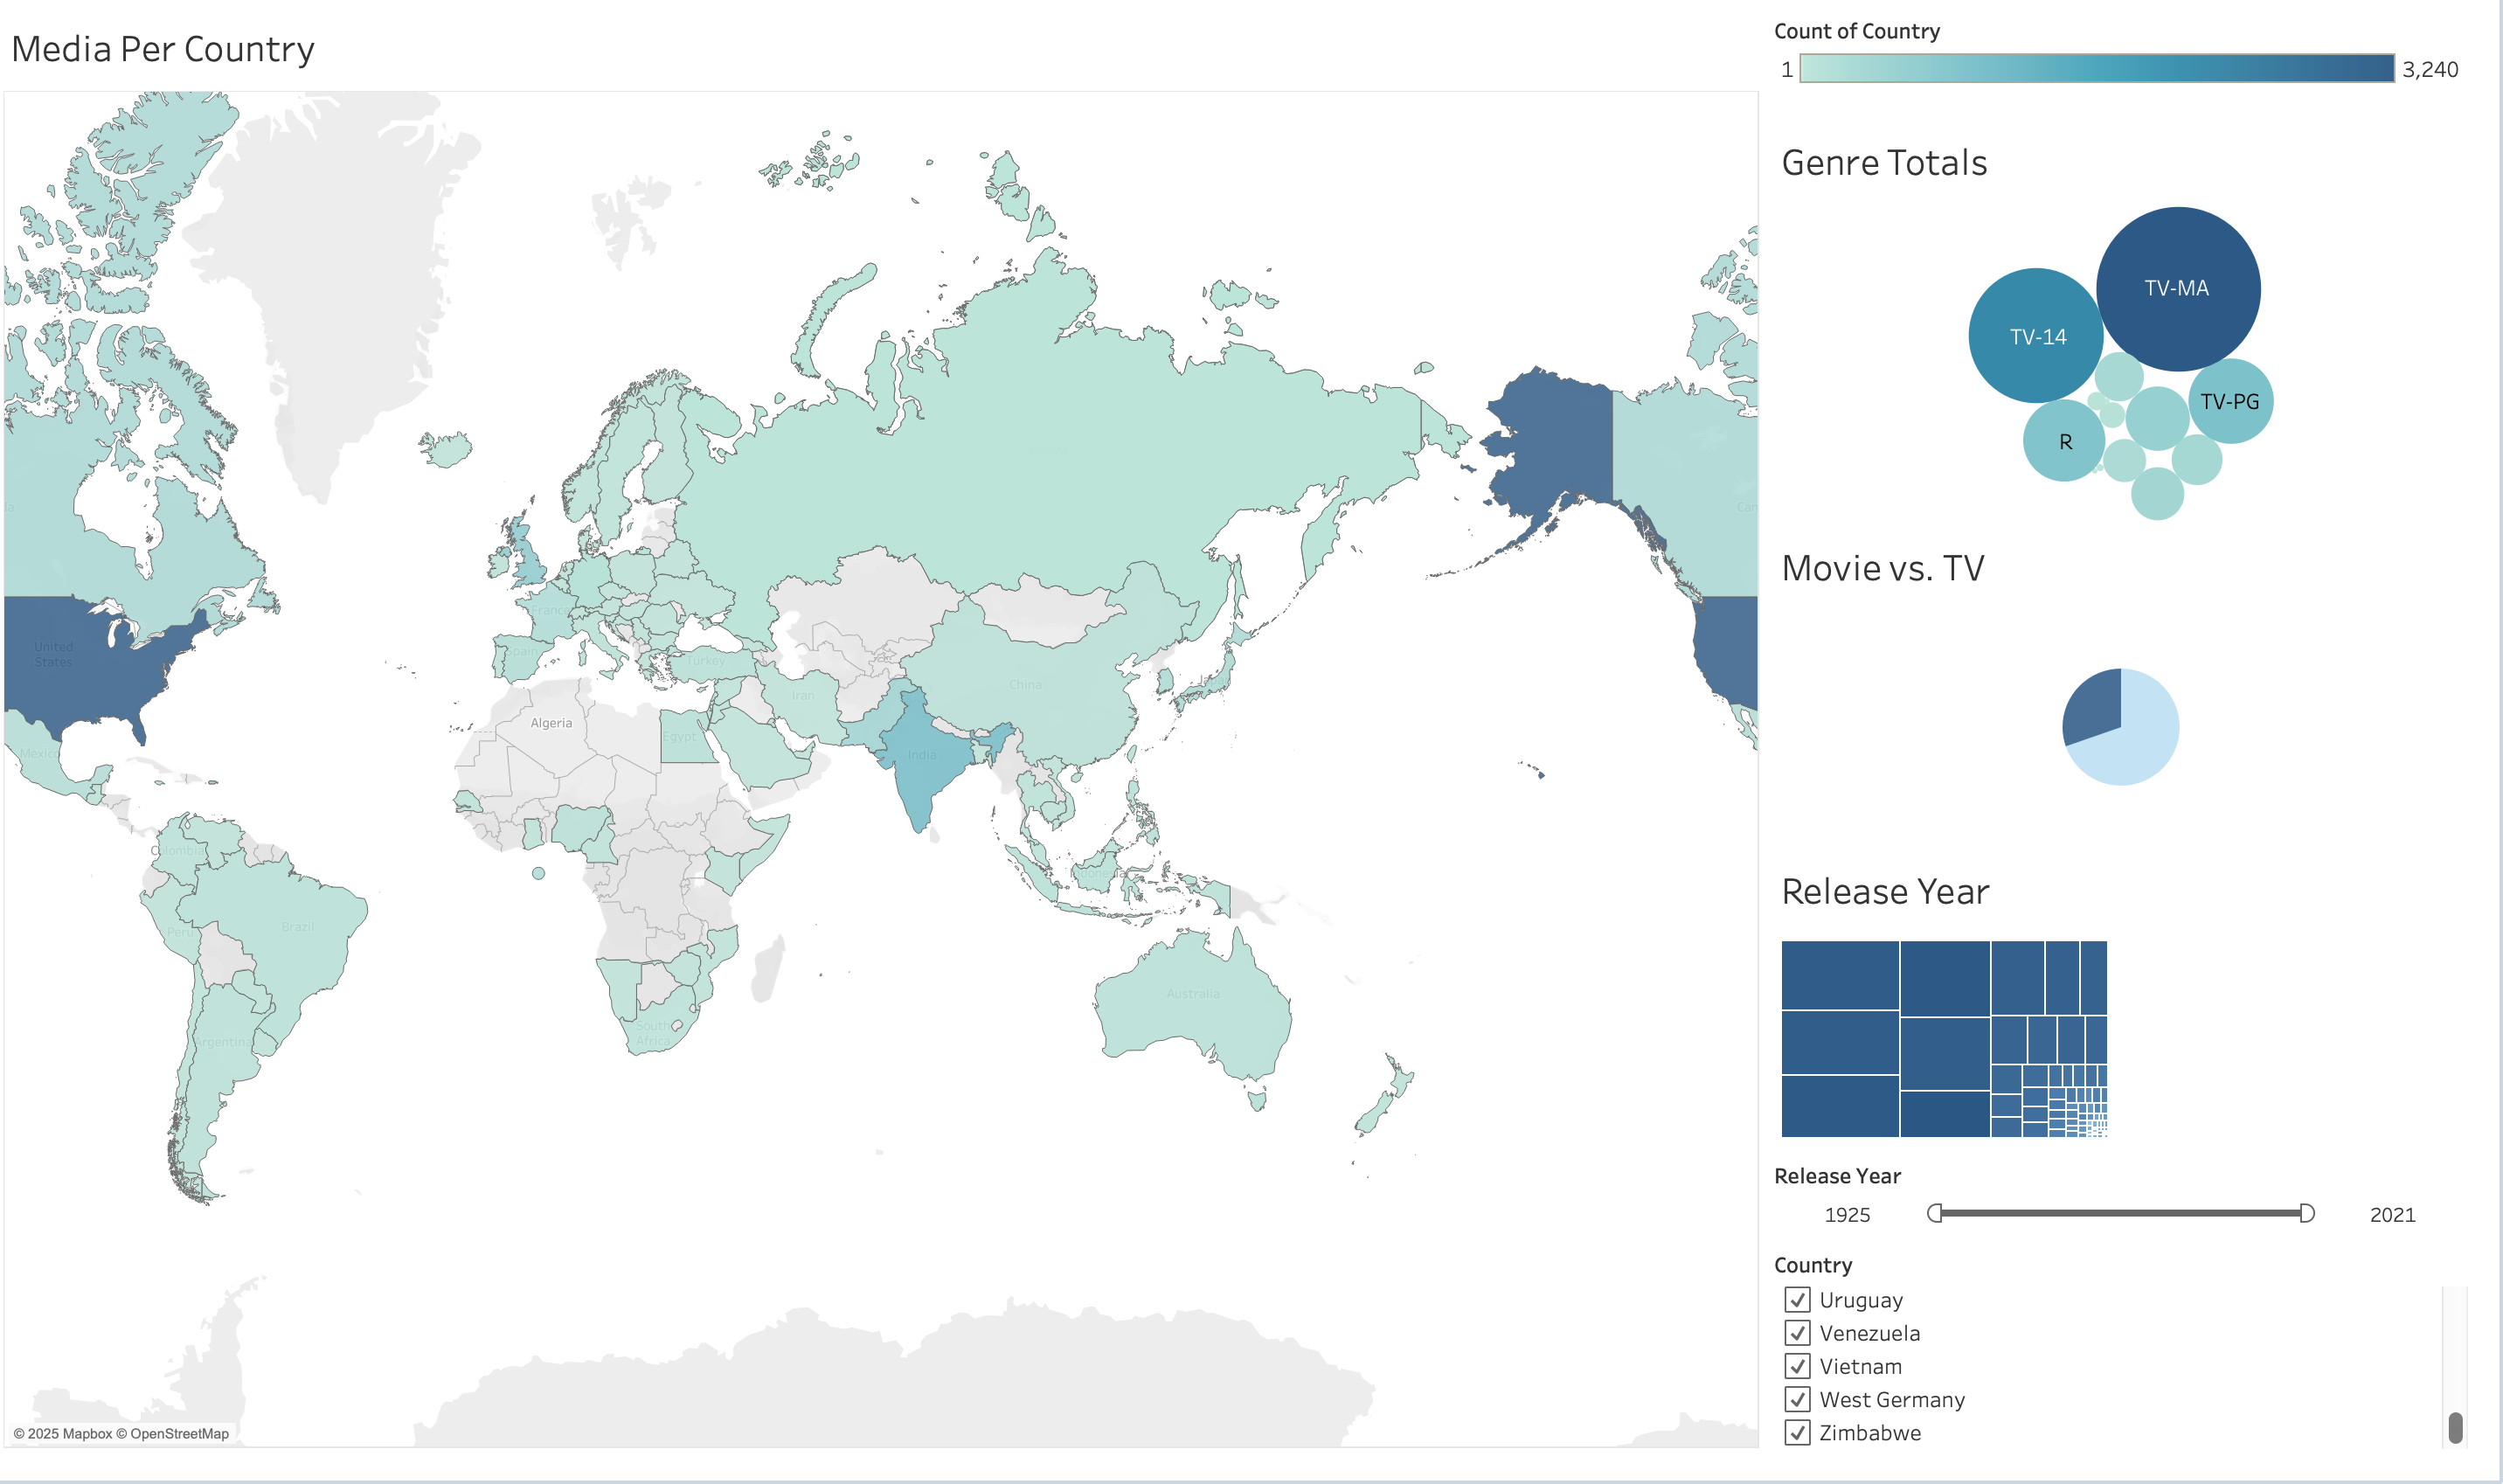

The dashboard page shown, as its layout file describes it:
{"tool":"tableau","page":{"name":"Dashboard 1","canvas":[1000,1000],"units":"permille","ordinal":0},"visuals":[{"type":"worksheet","title":"Sheet 1","mark":"Multipolygon","box":[10.7,17.1,708.5,965.9]},{"type":"legend","title":"Sheet 1","param":"[federated.1sigiq612of7cc13edzhp0mo0zzi].[cnt:country:qk]","box":[719.1,17.1,270.2,69.3]},{"type":"worksheet","title":"Sheet 2","mark":"Circle","box":[719.1,86.4,270.2,247.3]},{"type":"legend","title":"Sheet 2","param":"[federated.1sigiq612of7cc13edzhp0mo0zzi].[cnt:rating:qk]","box":[719.1,333.7,270.2,51.2]},{"type":"worksheet","title":"Sheet 3","mark":"Pie","box":[719.1,384.9,270.2,115.1]},{"type":"legend","title":"Sheet 3","param":"[federated.1sigiq612of7cc13edzhp0mo0zzi].[none:type:nk]","box":[719.1,500,270.2,73.6]},{"type":"worksheet","title":"Sheet 4","mark":"Automatic","box":[719.1,573.6,270.2,340.1]},{"type":"legend","title":"Sheet 4","param":"[federated.1sigiq612of7cc13edzhp0mo0zzi].[none:release_year:qk]","box":[719.1,913.6,270.2,69.3]}]}

Visuals, with their boxes on the dashboard's canvas, which has no fixed pixel size, in thousandths of its width and height (x1, y1, x2, y2). These are canvas units, not pixel positions in the 2503x1484 screenshot, which may show the page scaled, cropped or inside an application window:
"Sheet 1" worksheet (Multipolygon marks): <region>11, 17, 719, 983</region>
"Sheet 1" legend: <region>719, 17, 989, 86</region>
"Sheet 2" worksheet (Circle marks): <region>719, 86, 989, 334</region>
"Sheet 2" legend: <region>719, 334, 989, 385</region>
"Sheet 3" worksheet (Pie marks): <region>719, 385, 989, 500</region>
"Sheet 3" legend: <region>719, 500, 989, 574</region>
"Sheet 4" worksheet: <region>719, 574, 989, 914</region>
"Sheet 4" legend: <region>719, 914, 989, 983</region>
